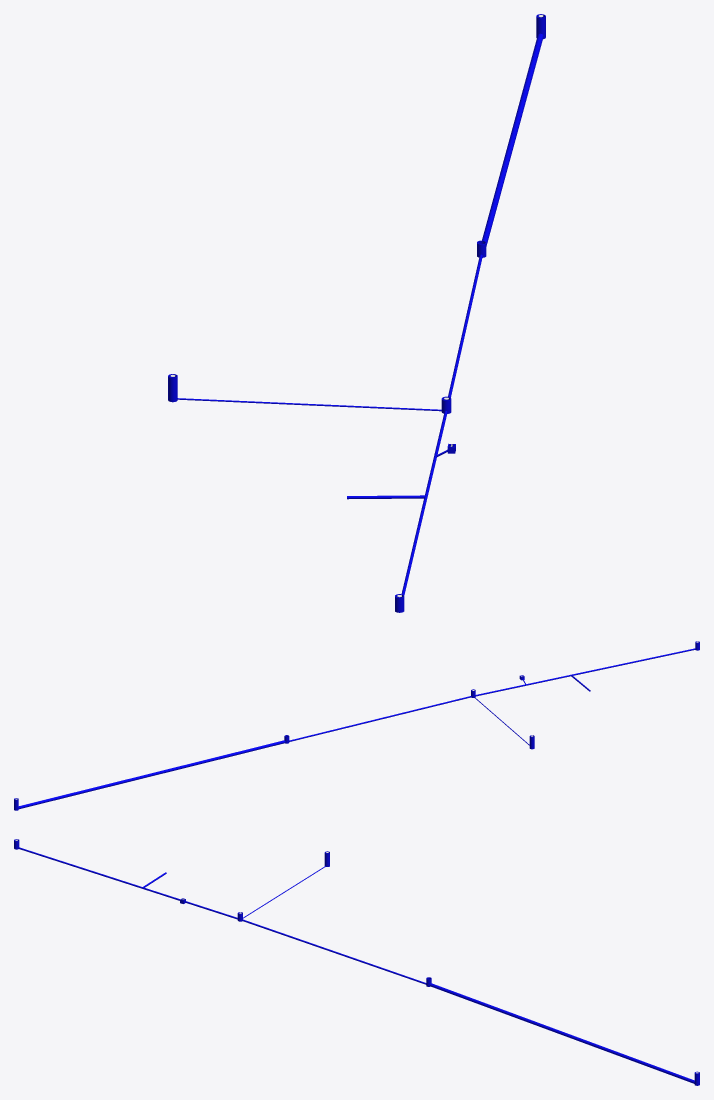
The picture shows the model from 3 angles, top to bottom: view 1: azimuth 30°, elevation 25°; view 2: azimuth 150°, elevation 25°; view 3: azimuth 270°, elevation 25°; orthographic projection. The views are drawn at different scales.
Visible parts, largest first — view 1: 2wKSu1vm1E09W0C01c06W0; view 2: 2wKSu1vm1E09W0C01c06W0, 2w8yu0vm1E09W0C01c06W0, 2w9Su0vm1E09W0C01c06W0; view 3: 2wKSu1vm1E09W0C01c06W0, 2w8yu0vm1E09W0C01c06W0, 2w9Su0vm1E09W0C01c06W0.
Boxes of the visible parts, x1=… form: 2wKSu1vm1E09W0C01c06W0: x1=482, y1=33, x2=543, y2=246; 2wKSu1vm1E09W0C01c06W0: x1=18, y1=740, x2=285, y2=809; 2w8yu0vm1E09W0C01c06W0: x1=475, y1=648, x2=695, y2=696; 2w9Su0vm1E09W0C01c06W0: x1=289, y1=696, x2=471, y2=741; 2wKSu1vm1E09W0C01c06W0: x1=429, y1=983, x2=694, y2=1083; 2w8yu0vm1E09W0C01c06W0: x1=18, y1=847, x2=237, y2=919; 2w9Su0vm1E09W0C01c06W0: x1=242, y1=919, x2=426, y2=984.
Bounding box in the file's own units: 109 × 10.35 × 153.
